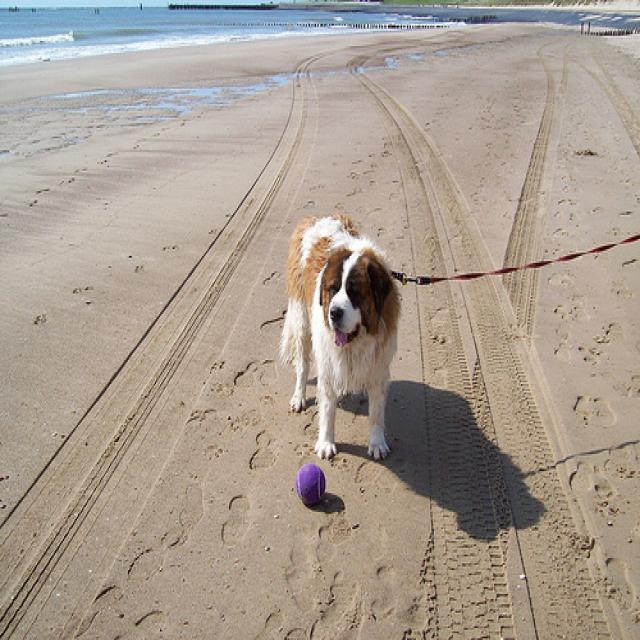dog-saint_bernard: (279, 208, 402, 468)
